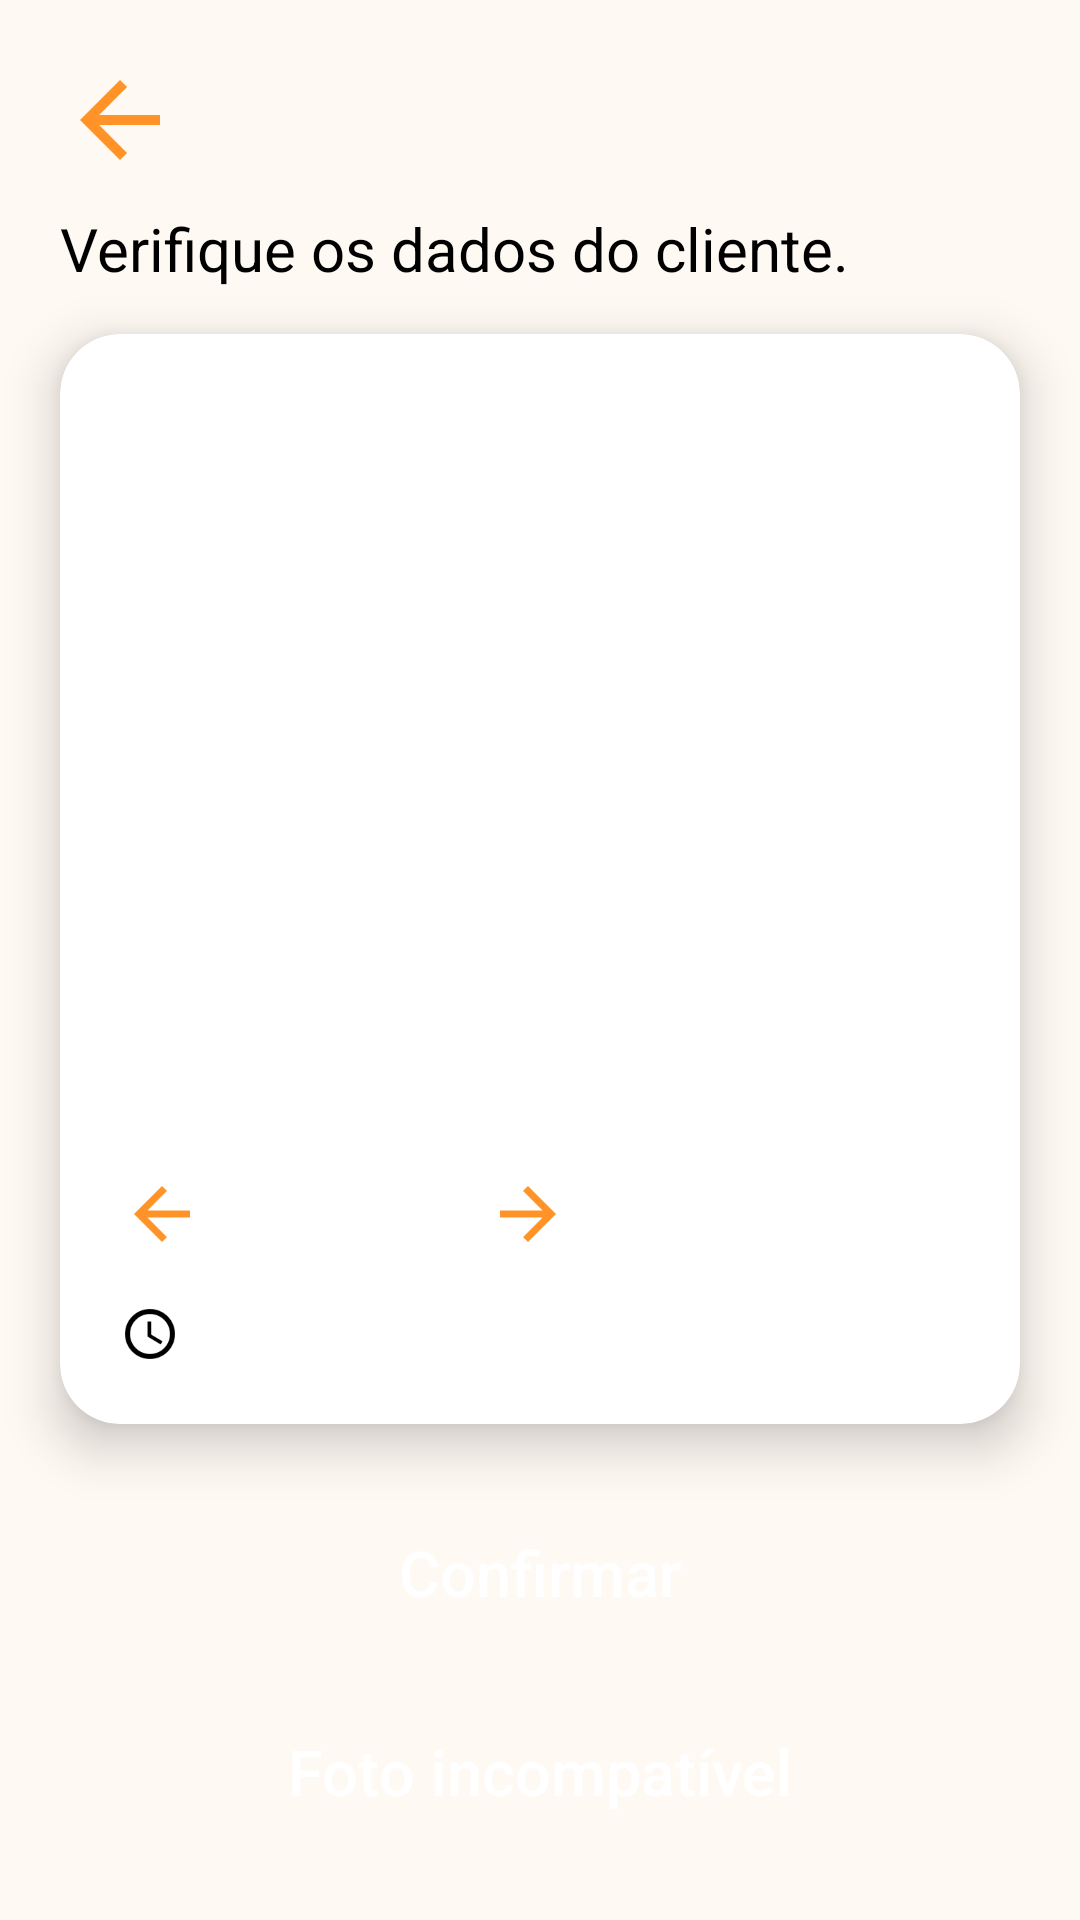

Icons on this 1080px×1920px Android screen, each with its box as (x1,y1,x2,y2):
arrow back: (80,80,160,160)
arrow forward: (500,1186,556,1242)
arrow prev: (134,1186,190,1242)
clock: (125,1309,175,1359)
